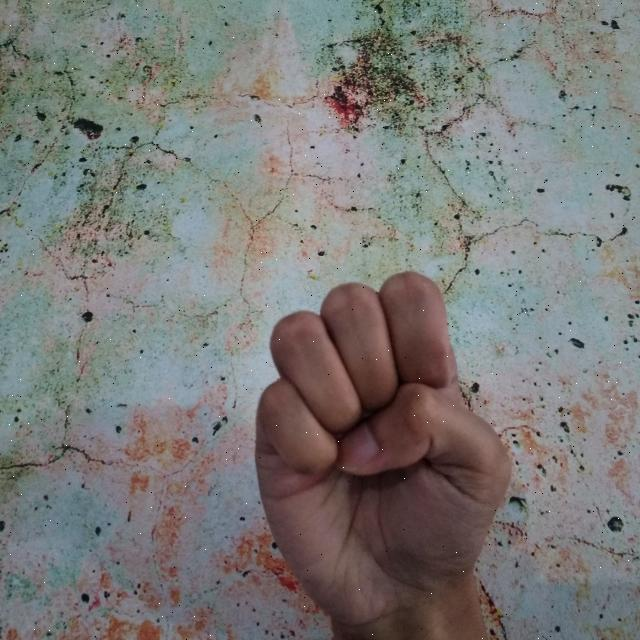S: (248, 259, 520, 640)
